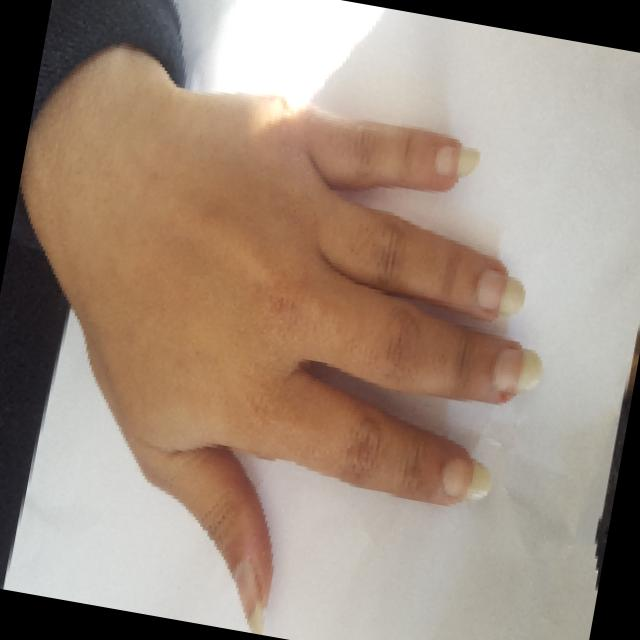Nail: (476, 268, 525, 315), (234, 557, 263, 635), (493, 347, 543, 391), (441, 456, 491, 499), (434, 145, 479, 175)
